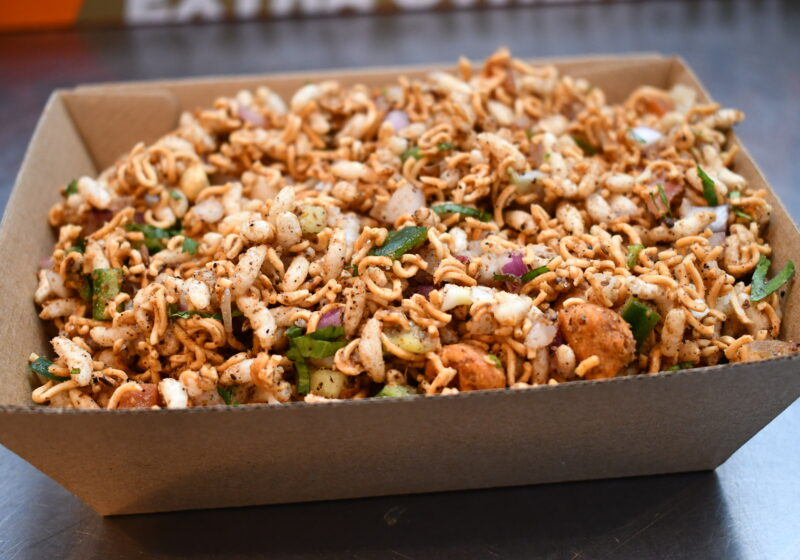chatpate: (60, 124, 740, 356)
